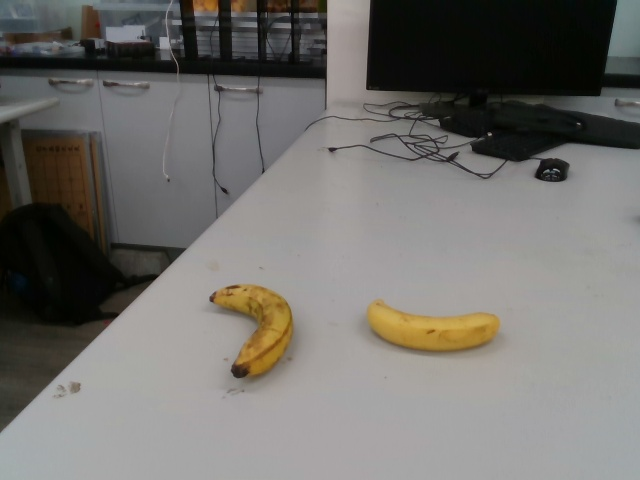banana: (205, 280, 293, 382), (362, 298, 502, 354)
